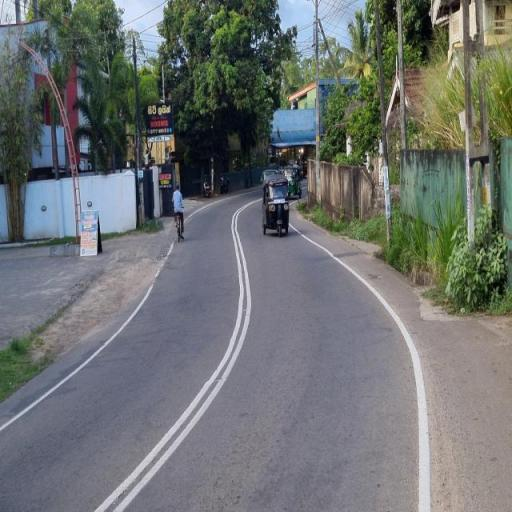double_white_line: (95, 198, 248, 512)
